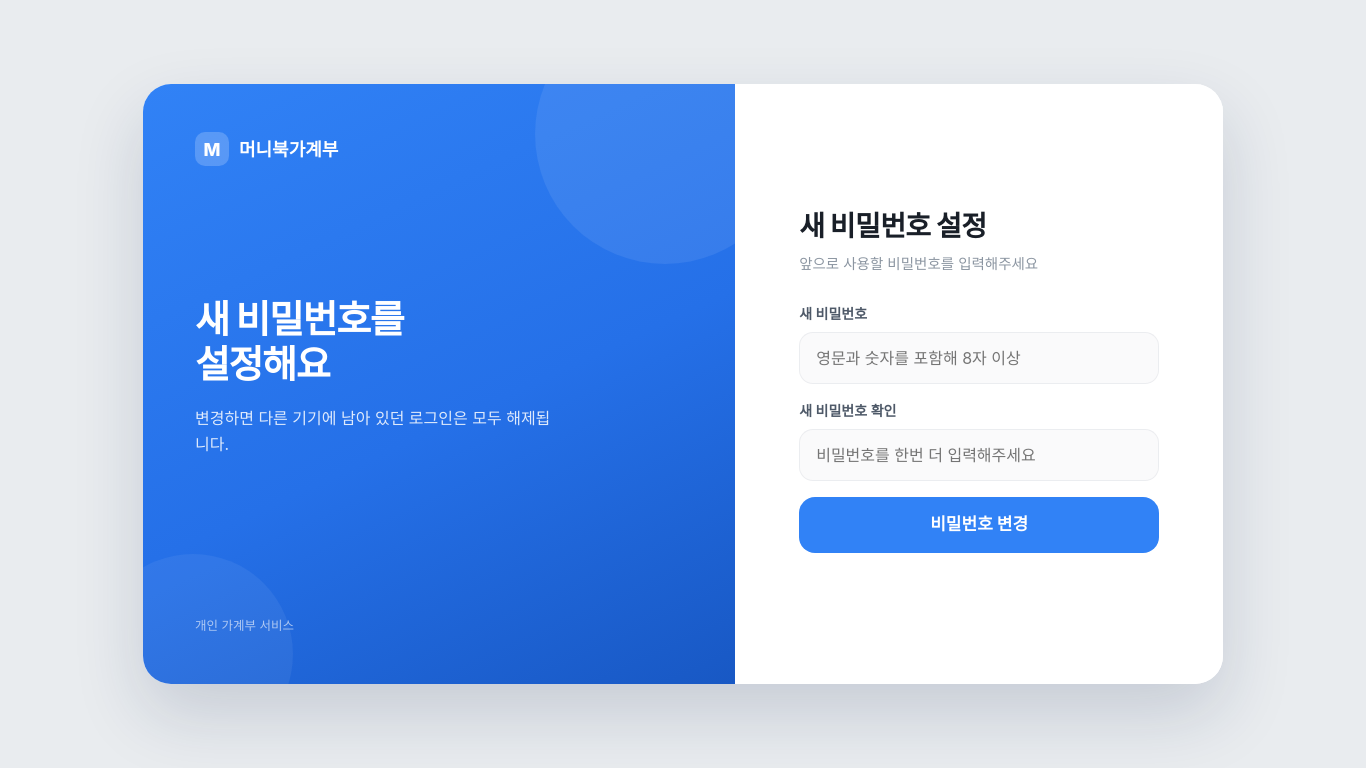
Test: ResetPasswordPage › updates the password and revokes other sessions
The image size is (1366, 768).
Type "password123" into the password field labelled "새 비밀번호".
click(979, 358); type("password123")  # box x1=799 y1=332 x2=1159 y2=384
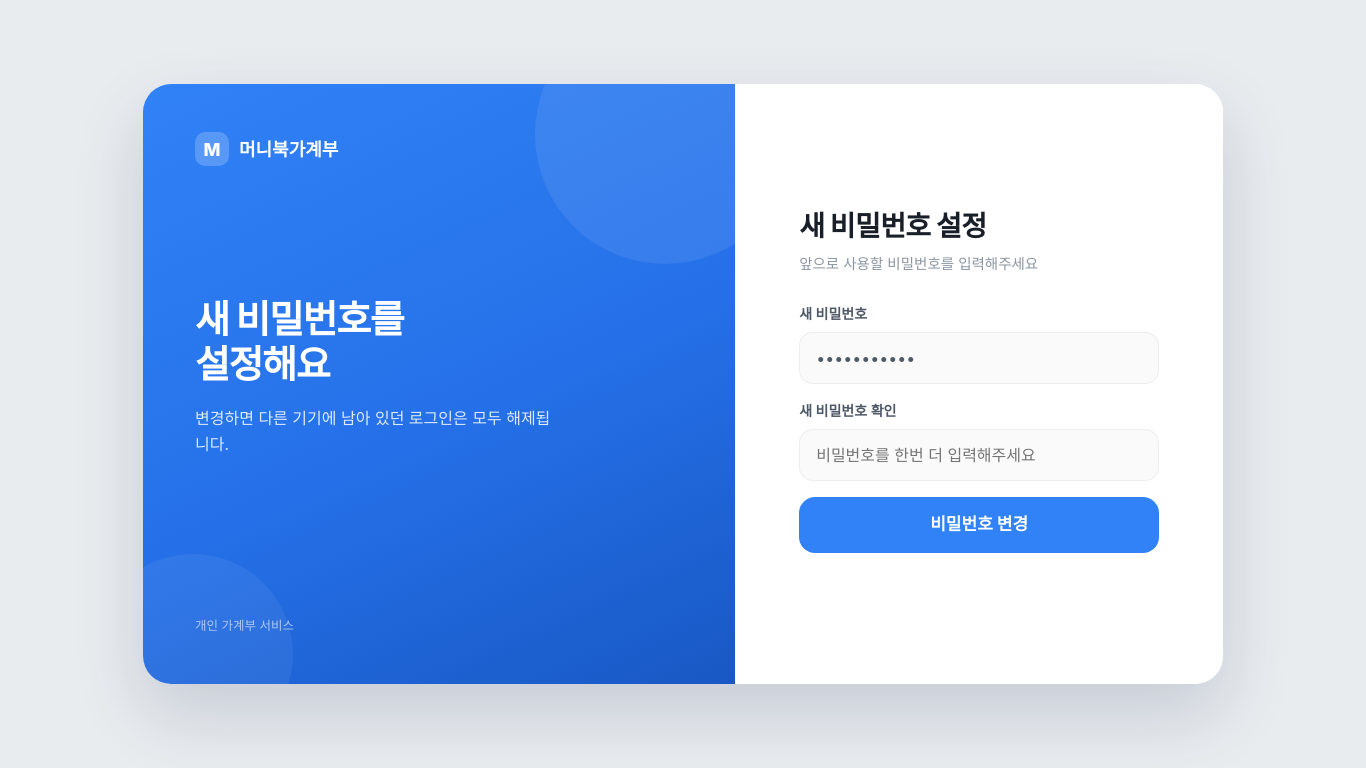
Type "password123" into the password field labelled "새 비밀번호 확인".
click(979, 455); type("password123")  # box x1=799 y1=429 x2=1159 y2=481
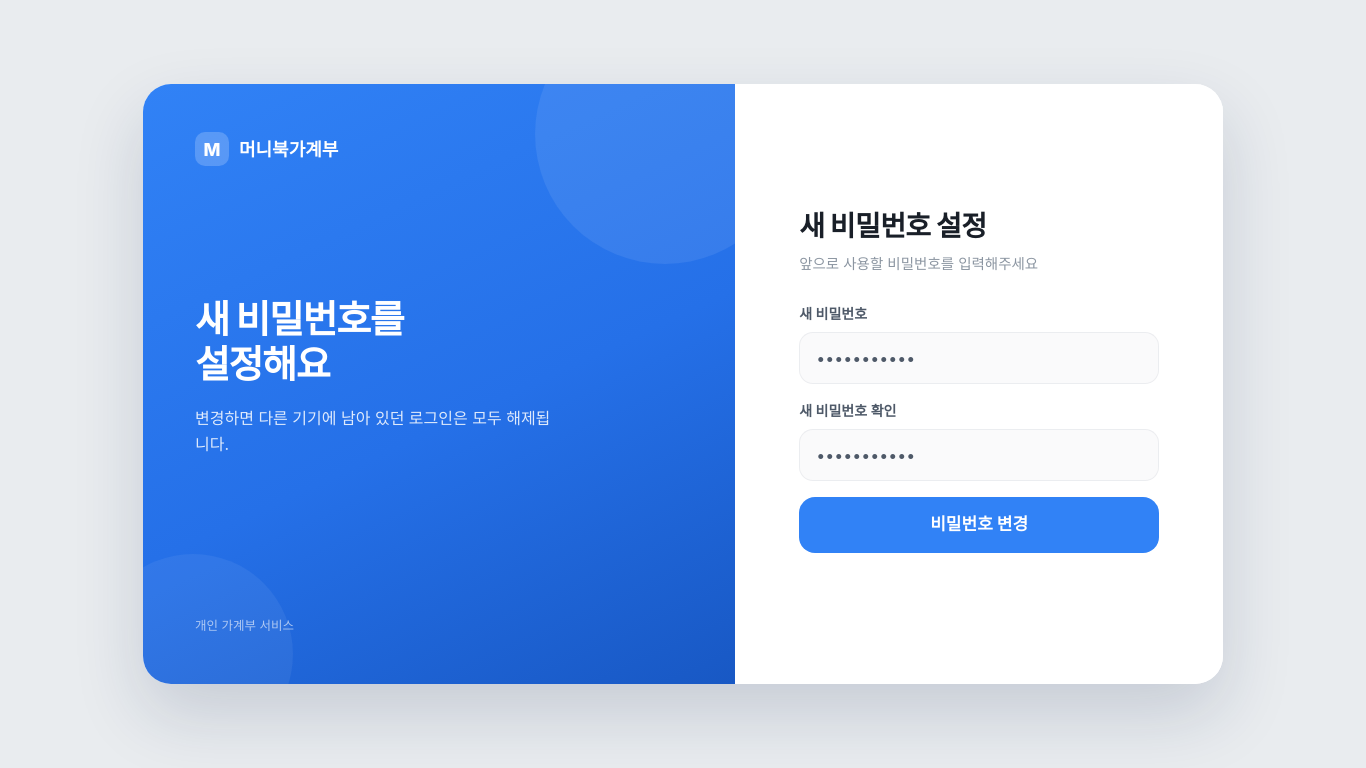
Click the button "비밀번호 변경".
click(979, 525)  # box x1=799 y1=497 x2=1159 y2=553
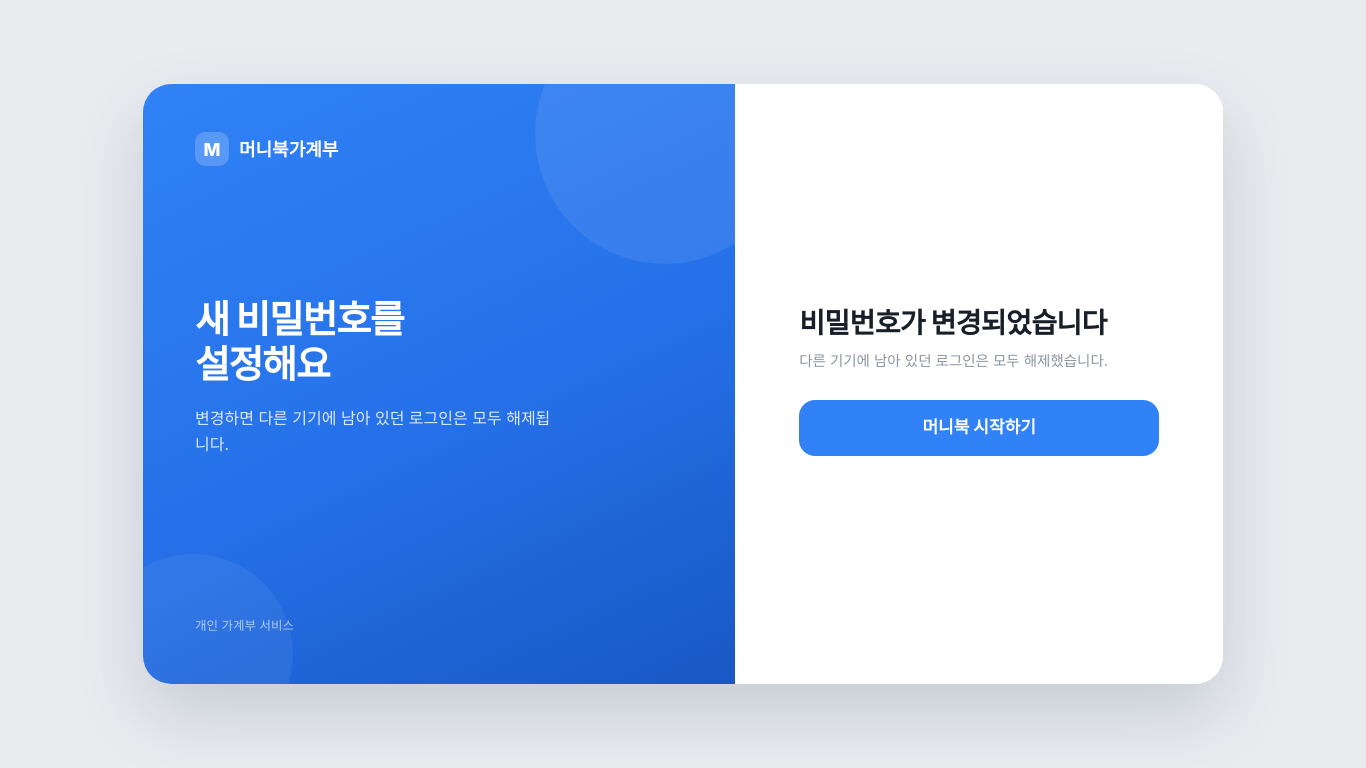
Result: the heading "비밀번호가 변경되었습니다" is shown at x1=799 y1=302 x2=1159 y2=344
